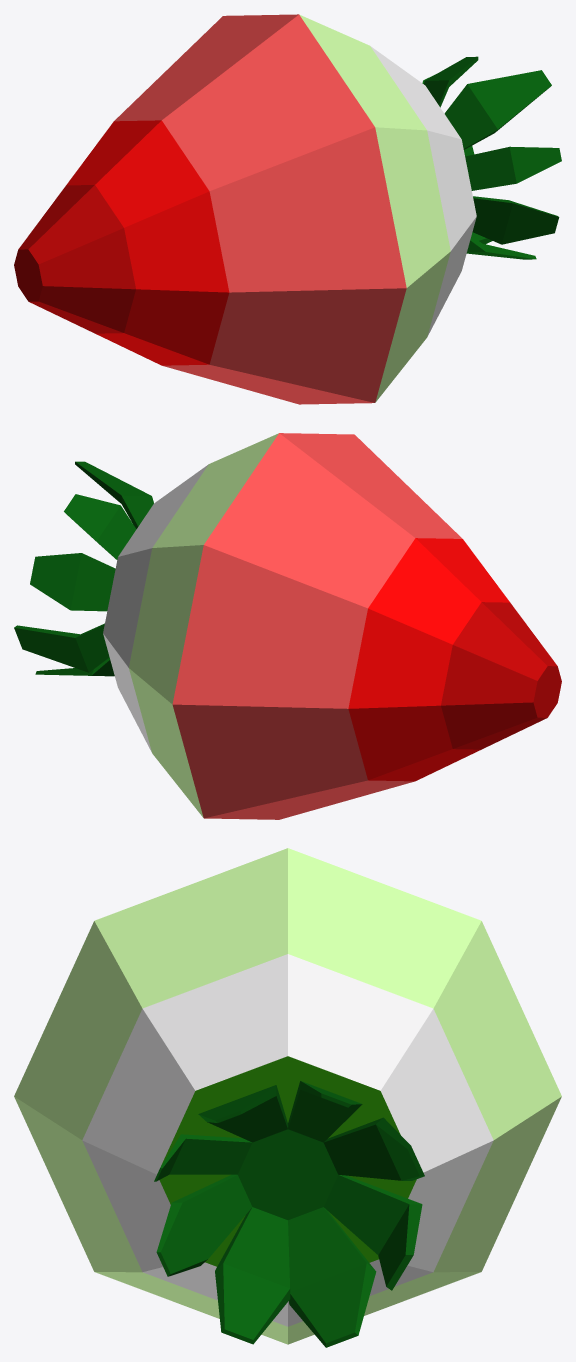
File: strawberry03.gltf
3 views of the same model, one above another, from view 1: azimuth 30°, elevation 25°; view 2: azimuth 150°, elevation 25°; view 3: azimuth 270°, elevation 25° (orthographic). The views are drawn at different scales.
Parts seen in each view (by area): view 1: Cylinder.001; view 2: Cylinder.001; view 3: Cylinder.001.
Boxes of the visible parts, <box> form: Cylinder.001: <box>14,14,561,404</box>; Cylinder.001: <box>14,433,561,819</box>; Cylinder.001: <box>14,848,561,1347</box>.
Size of the model in its own units: 0.0502 by 0.0378 by 0.0378.
1 material, 1 textured.
